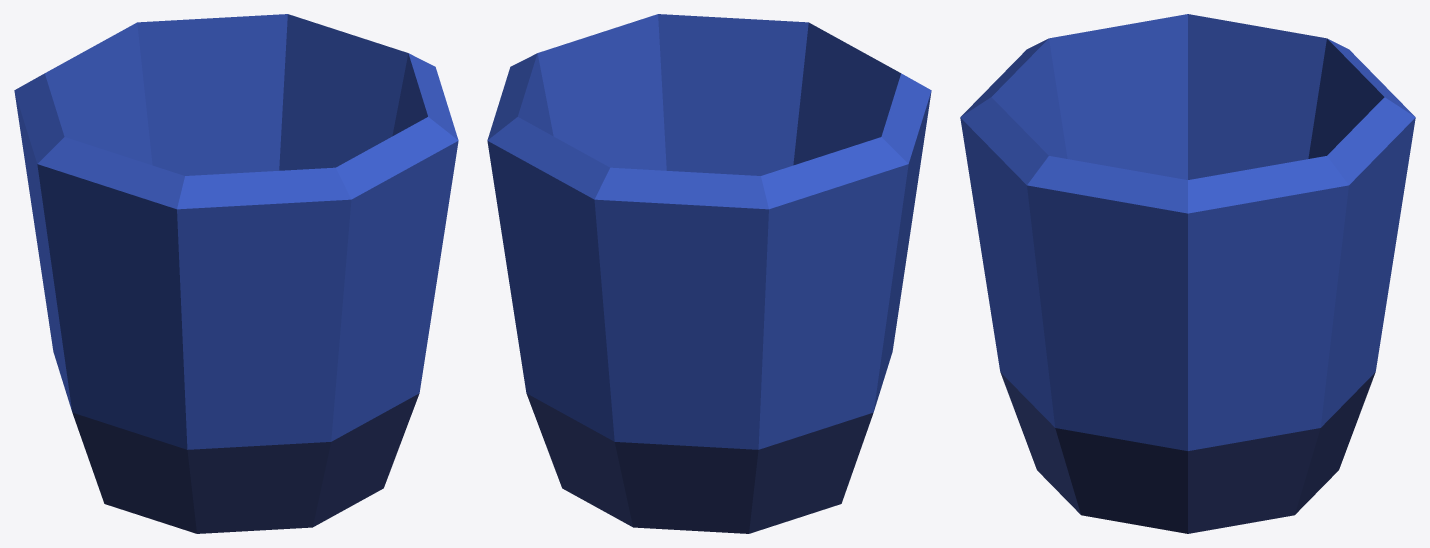
File: RivenRoom_EmptyTrashCan.fbx
3 renders of one model, left to right at view 1: azimuth 30°, elevation 25°; view 2: azimuth 150°, elevation 25°; view 3: azimuth 270°, elevation 25°, orthographic.
Visible parts, largest first — view 1: Cylinder.013; view 2: Cylinder.013; view 3: Cylinder.013.
Part boxes in pixels (box(x1,y1,x2,y2)): Cylinder.013: box(14, 14, 458, 533); Cylinder.013: box(487, 14, 931, 533); Cylinder.013: box(960, 14, 1415, 533).
Bounding box in the file's own units: 32.12 × 29.03 × 32.12.
